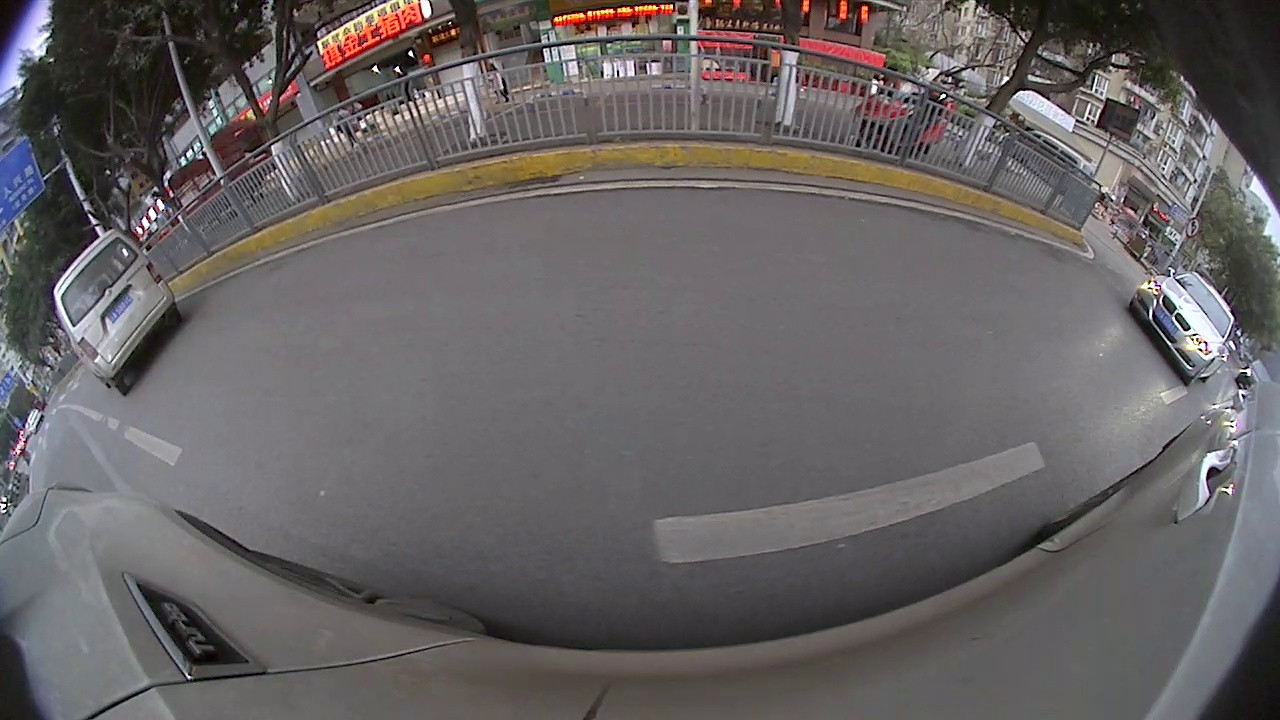car: (47, 222, 184, 399), (1123, 261, 1239, 390)
rider: (845, 70, 960, 163)
